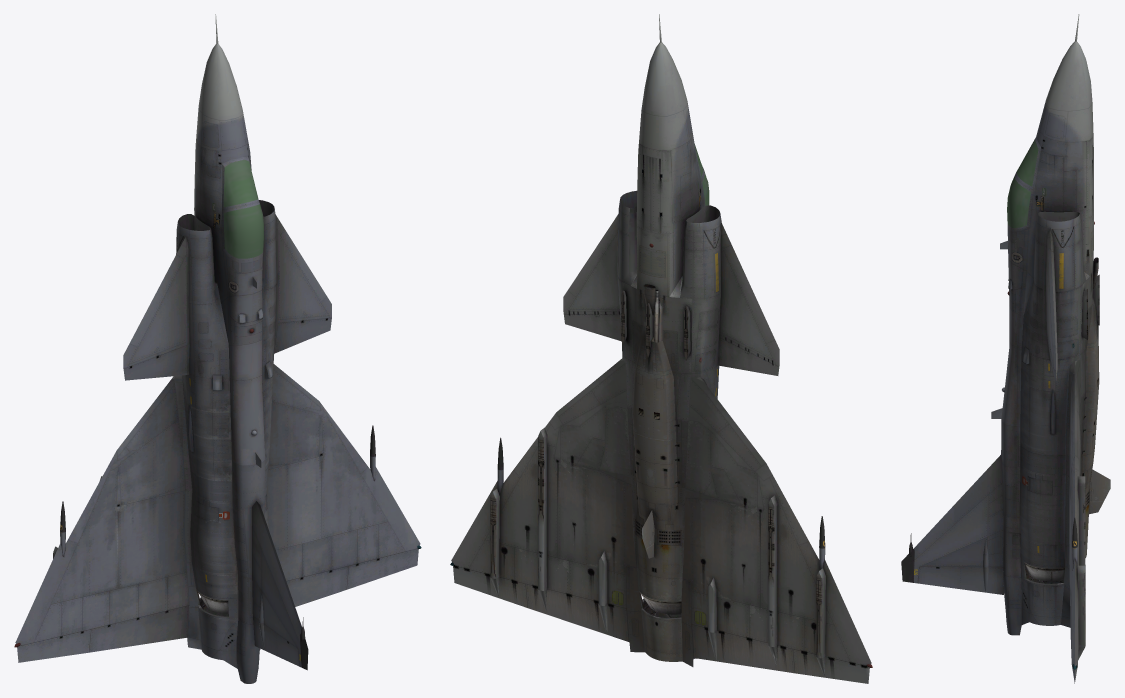
The model's file is Saab-37_Viggen.obj.
3 views of the same model, side by side, from view 1: azimuth 30°, elevation 25°; view 2: azimuth 150°, elevation 25°; view 3: azimuth 270°, elevation 25° (orthographic). The views are drawn at different scales.
Parts seen in each view (by area): view 1: LOD0, FlapL01, Glass_Canopy01, AileronL01, FlapR01, AileronR01, CanardL01, Glass01, CanardR01, RudderL01; view 2: LOD0, FlapL01, FlapR01, AileronL01, AileronR01, CanardL01, CanardR01; view 3: LOD0, RudderL01, Glass_Canopy01, Glass01, EngineL01, BrakeR01.
Part boxes in pixels (x1,y1,x2,y2): LOD0: [14, 14, 421, 683]; FlapL01: [89, 605, 189, 652]; Glass_Canopy01: [223, 204, 263, 258]; AileronL01: [17, 629, 91, 662]; FlapR01: [286, 566, 348, 606]; AileronR01: [346, 548, 418, 589]; CanardL01: [123, 346, 187, 380]; Glass01: [223, 159, 258, 207]; CanardR01: [274, 318, 331, 353]; RudderL01: [253, 616, 299, 666]; LOD0: [450, 14, 872, 667]; FlapL01: [691, 624, 794, 673]; FlapR01: [525, 583, 629, 641]; AileronL01: [792, 648, 869, 683]; AileronR01: [453, 564, 527, 607]; CanardL01: [719, 335, 779, 375]; CanardR01: [563, 311, 621, 341]; LOD0: [901, 14, 1110, 669]; RudderL01: [918, 566, 1003, 594]; Glass_Canopy01: [1007, 176, 1031, 227]; Glass01: [1016, 139, 1038, 186]; EngineL01: [1024, 562, 1064, 581]; BrakeR01: [1028, 473, 1053, 494].
Size of the model in its own units: 10.86 by 16.37 by 5.03.
4 materials, 4 textured.
